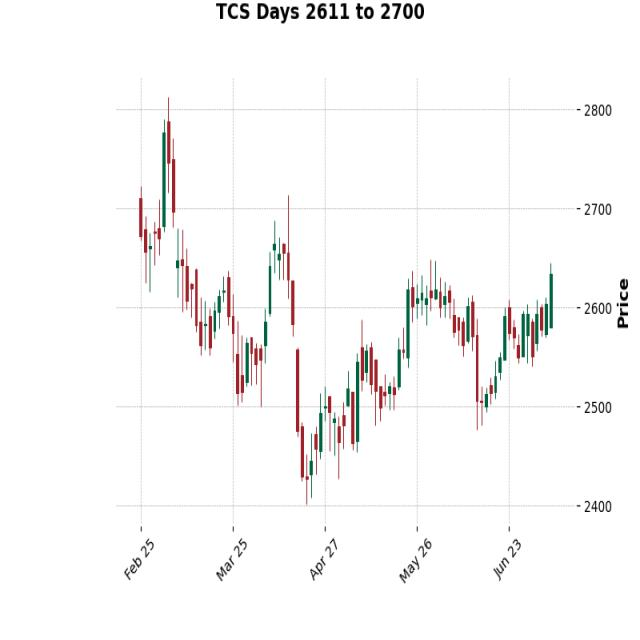Ascending Triangle: (292, 257, 418, 498)
